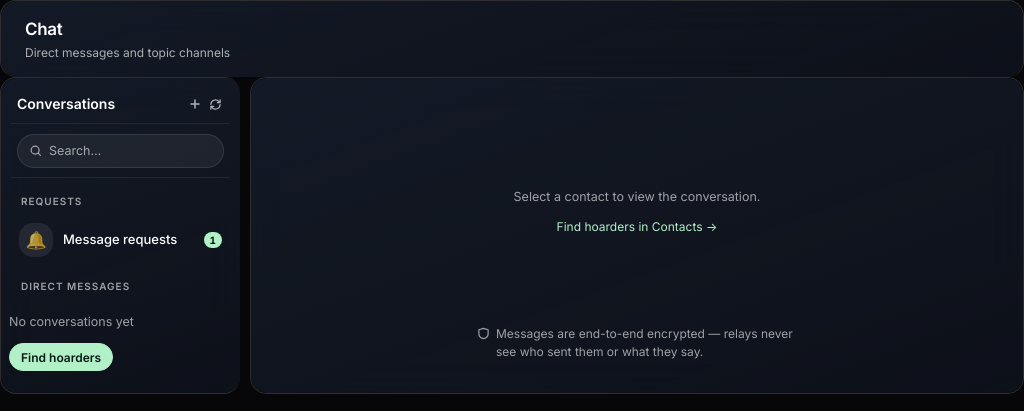
Test: QURATOR-155 cadence — a settled profileless sender is fetched once, not once per poll › a resolve WITH a display_name still populates the cache (skipped afterwards)
Click the text "Message requests": x=120, y=239 x1=63 y1=231 x2=177 y2=247
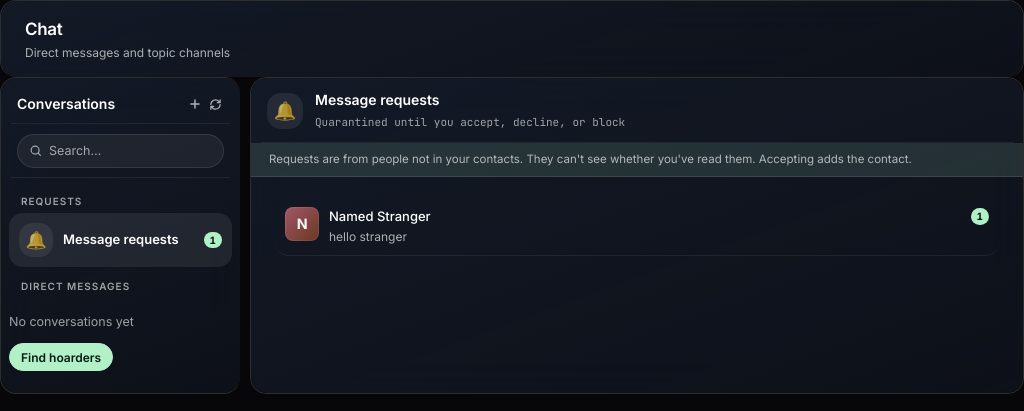
Expected: the text "Named Stranger" is shown, x1=329 y1=208 x2=431 y2=224
